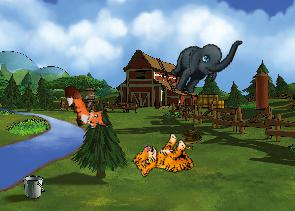elephant: (165, 21, 243, 106)
fox: (61, 76, 112, 137)
tiger: (129, 126, 199, 193)
